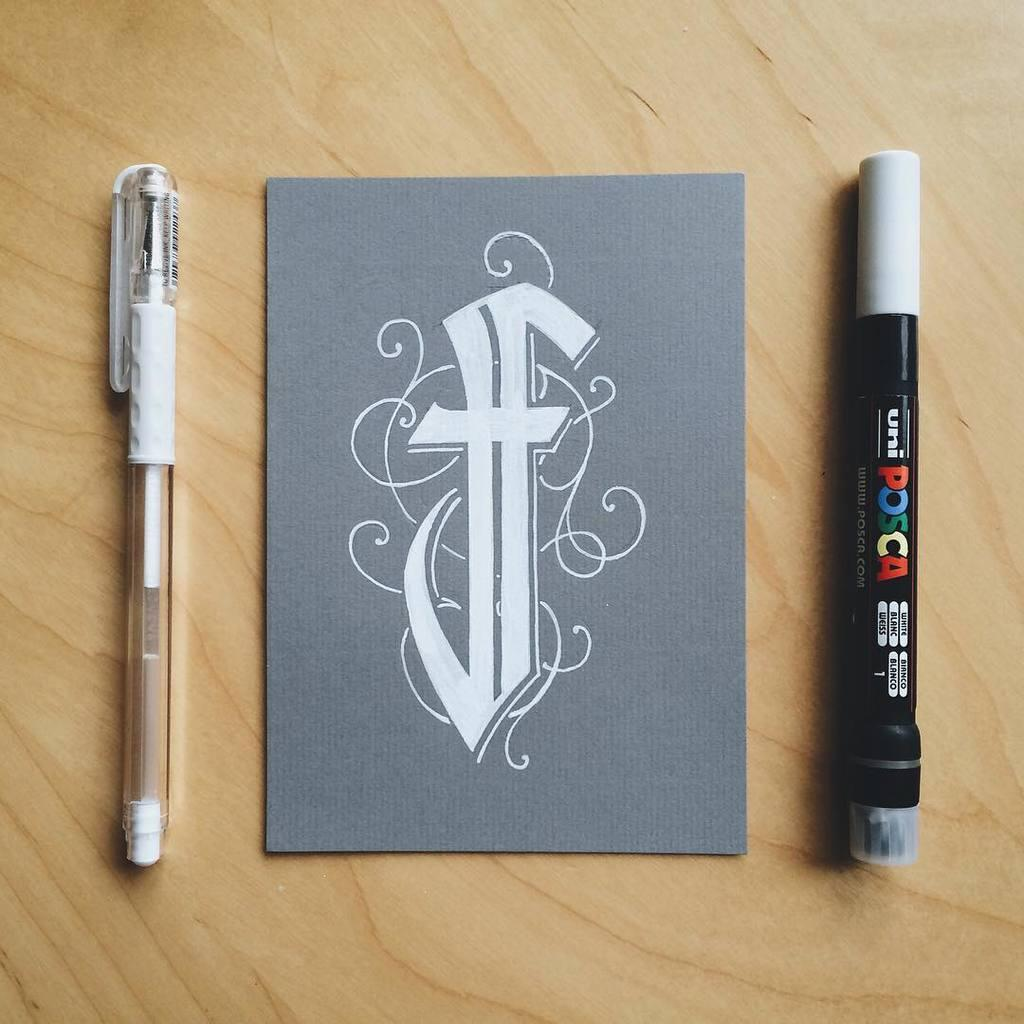pen: (97, 164, 175, 881), (850, 143, 925, 856)
